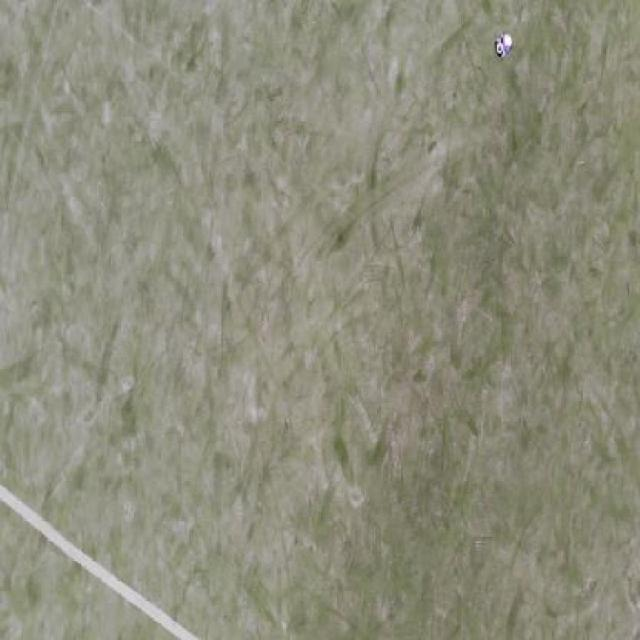Garbage: (495, 32, 514, 59)
